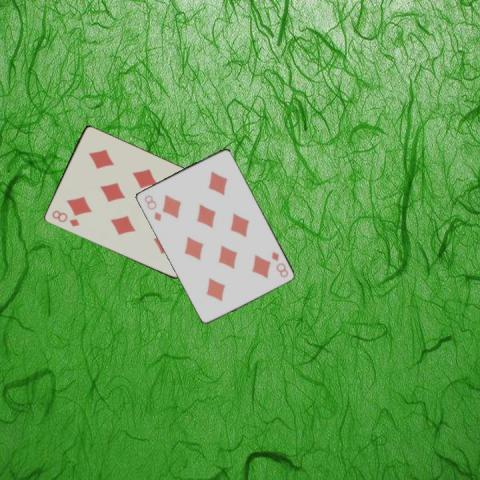8d: (140, 192, 162, 223), (48, 207, 80, 228), (268, 248, 289, 278)
